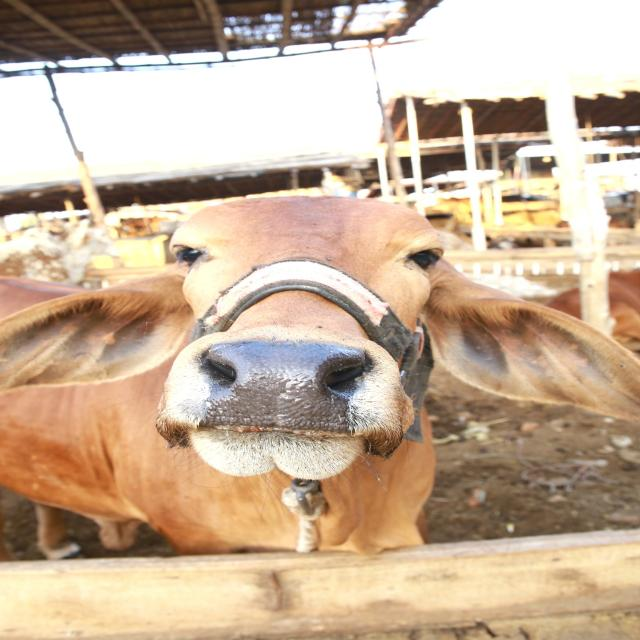muzzles: (182, 330, 378, 440)
